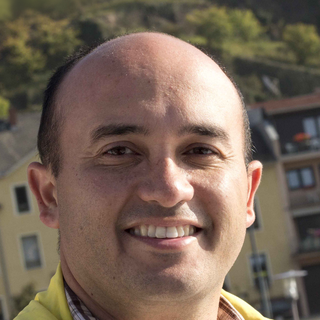eye: (175, 138, 232, 167), (93, 138, 147, 164)
